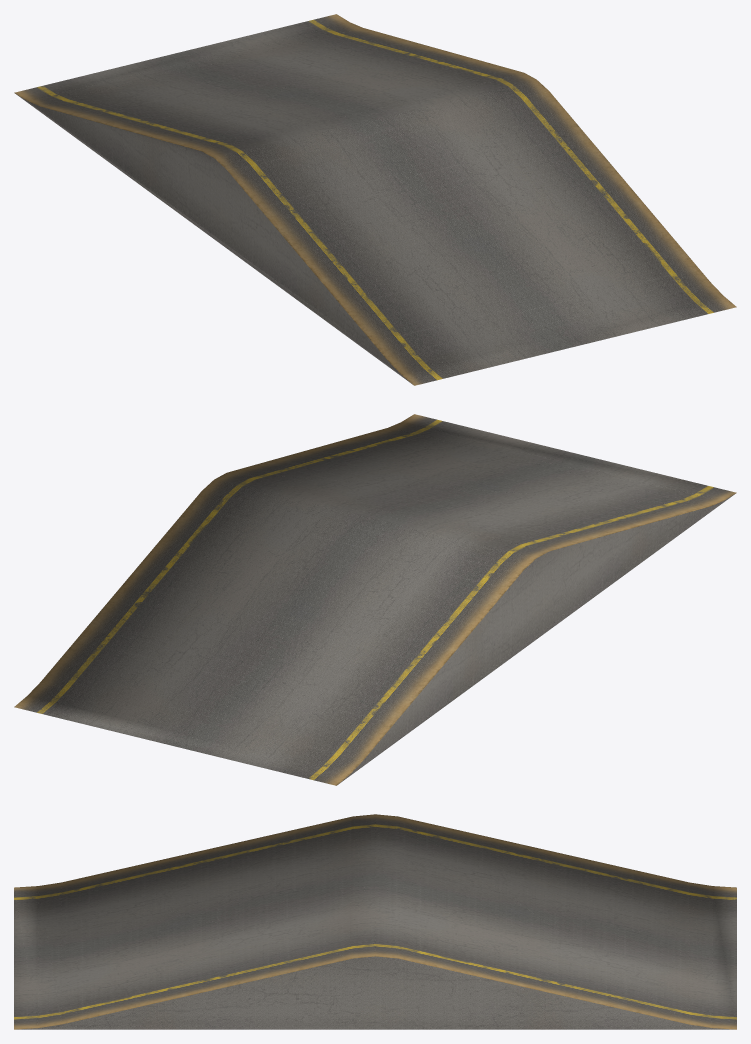
Rendered from road.105.fbx.
The picture shows the model from 3 angles, top to bottom: view 1: azimuth 30°, elevation 25°; view 2: azimuth 150°, elevation 25°; view 3: azimuth 270°, elevation 25°; orthographic projection. The views are drawn at different scales.
Parts seen in each view (by area): view 1: road_105; view 2: road_105; view 3: road_105.
Boxes of the visible parts, box(x1,y1,x2,y2) form: road_105: box(14, 14, 736, 385); road_105: box(14, 414, 736, 785); road_105: box(14, 814, 736, 1029).
Size of the model in its own units: 8 by 1.92 by 17.2.
